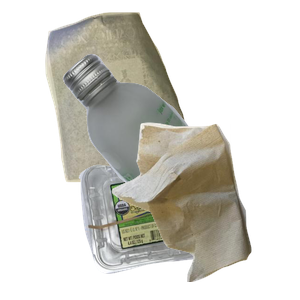glass: (60, 51, 300, 231)
paper: (43, 10, 221, 185)
plastic: (76, 151, 270, 300)
trash: (109, 120, 300, 300)
